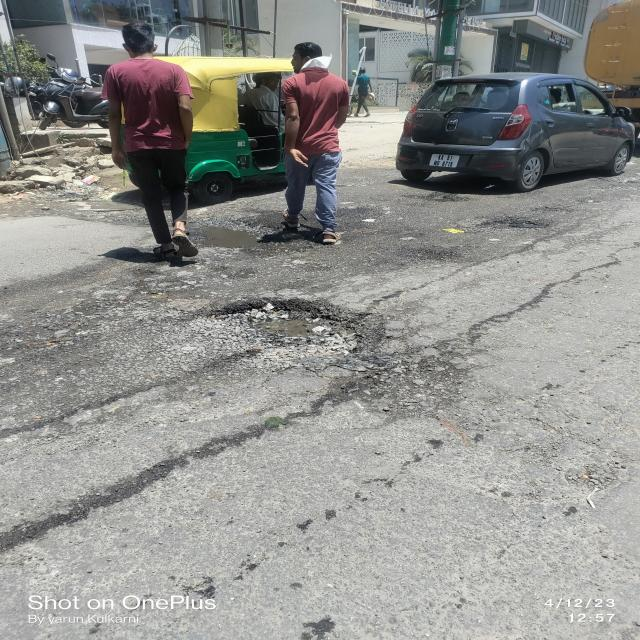potholes: (209, 297, 376, 367)
